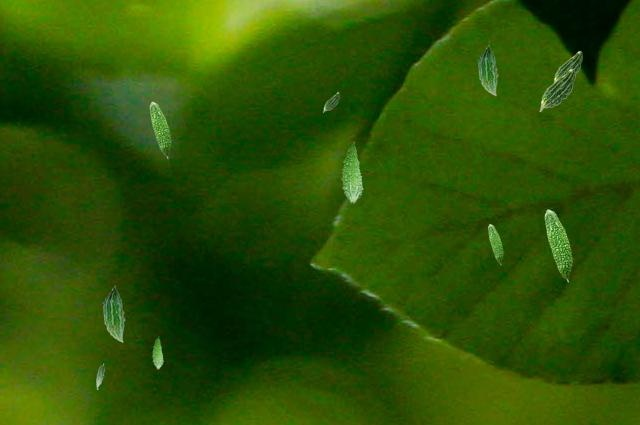ampalaya: (544, 209, 573, 282), (539, 68, 575, 112), (340, 141, 363, 205), (149, 101, 172, 159), (102, 285, 125, 342), (477, 44, 498, 96), (553, 50, 583, 82), (487, 223, 504, 265), (151, 335, 164, 370), (322, 91, 340, 113), (95, 363, 104, 390)
